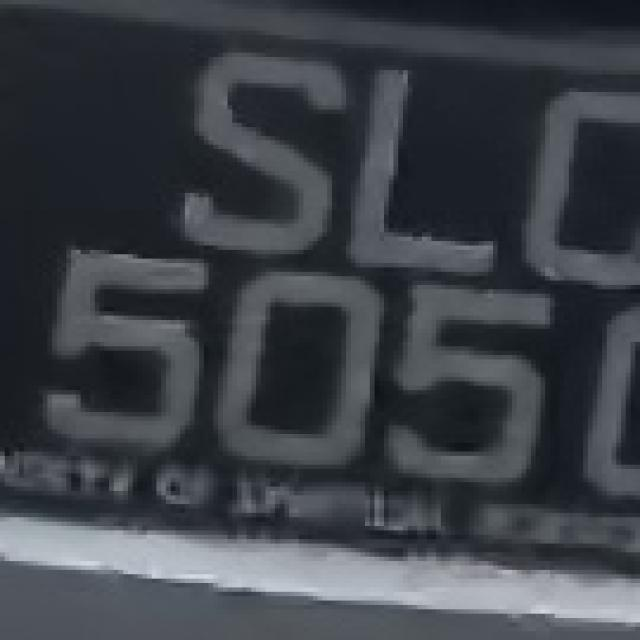0: (223, 250, 393, 473)
5: (52, 228, 204, 460), (398, 272, 540, 495)
L: (346, 39, 512, 294)
S: (175, 26, 346, 263)
